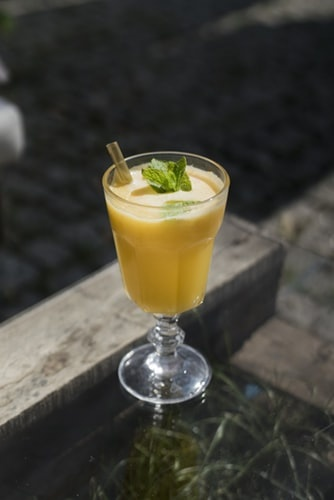whiskey: (105, 154, 232, 404)
